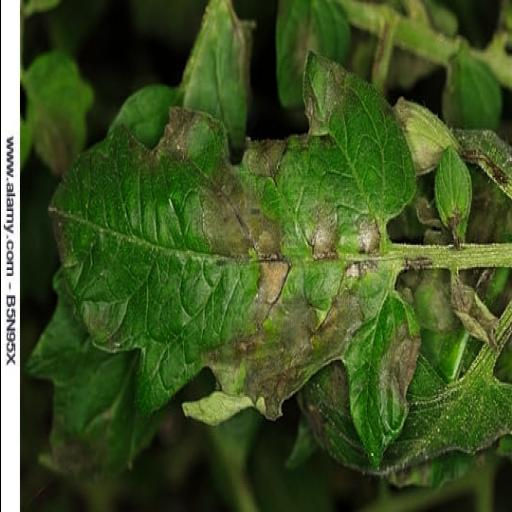disease_tomato: (44, 50, 424, 470)
